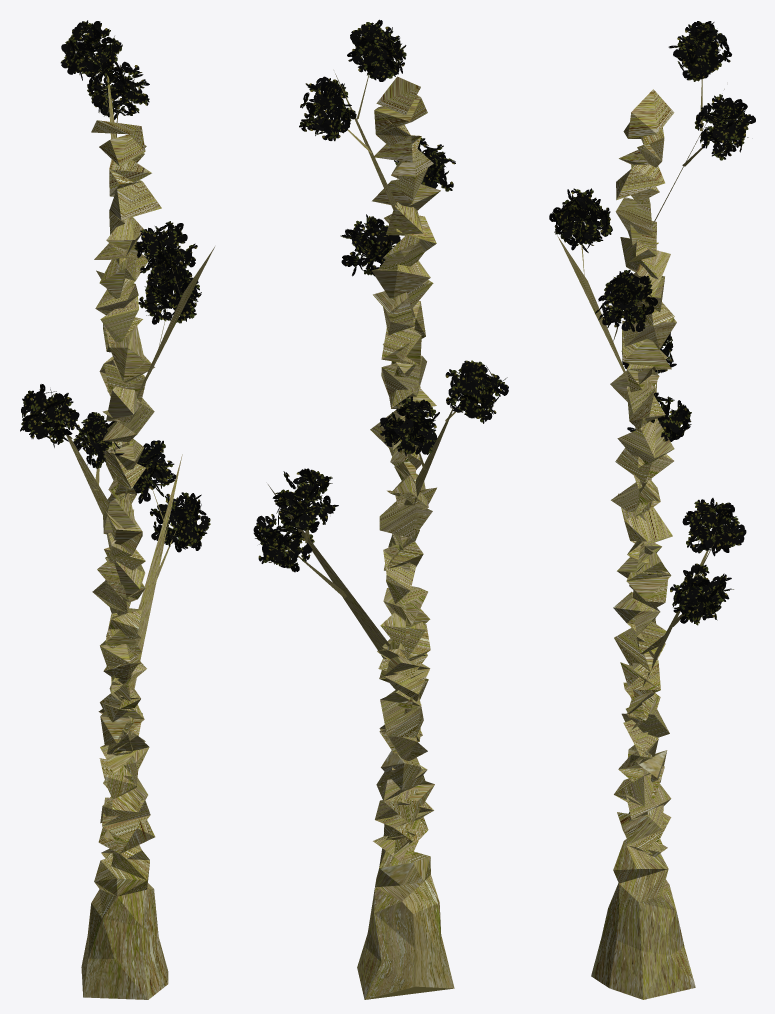
File: deadwood_snag_v02_LOD2.fbx
3 views of the same model, side by side, from view 1: azimuth 30°, elevation 25°; view 2: azimuth 150°, elevation 25°; view 3: azimuth 270°, elevation 25° (orthographic). The views are drawn at different scales.
Parts seen in each view (by area): view 1: deadwood_snag_v02_LOD2; view 2: deadwood_snag_v02_LOD2; view 3: deadwood_snag_v02_LOD2.
Part boxes in pixels (left/top/right/bottom): deadwood_snag_v02_LOD2: left=20, top=20, right=214, bottom=999; deadwood_snag_v02_LOD2: left=253, top=19, right=508, bottom=999; deadwood_snag_v02_LOD2: left=549, top=21, right=755, bottom=999.
Size of the model in its own units: 483 by 407 by 1993.
2 materials, 2 textured.
